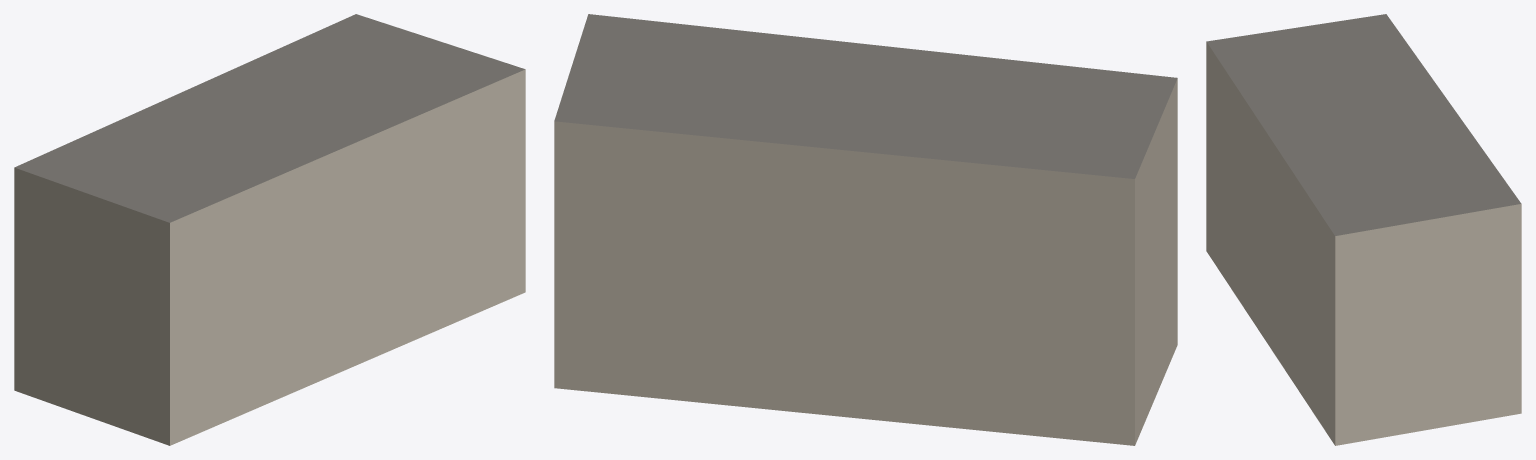
3 views of the same model, side by side, from view 1: azimuth 30°, elevation 25°; view 2: azimuth 150°, elevation 25°; view 3: azimuth 270°, elevation 25° (orthographic). The views are drawn at different scales.
Visible parts, largest first — view 1: HP-w378107092; view 2: HP-w378107092; view 3: HP-w378107092.
Part boxes in pixels (x1,y1,x2,y2): HP-w378107092: (14, 14, 525, 445); HP-w378107092: (554, 14, 1177, 445); HP-w378107092: (1206, 14, 1521, 445).
Size of the model in its own units: 40.89 by 18 by 24.5.
